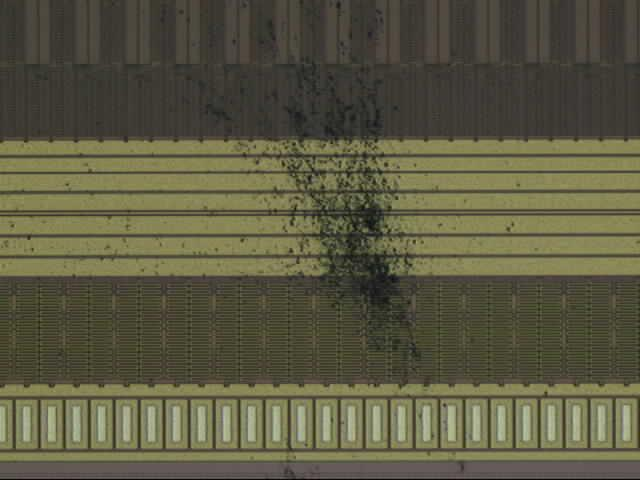PO CONTAMINATION: (2, 2, 520, 480)
